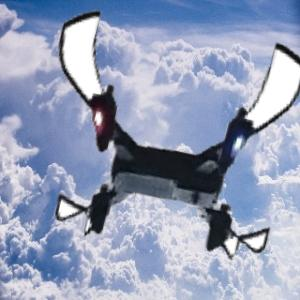drone: (40, 5, 296, 261)
